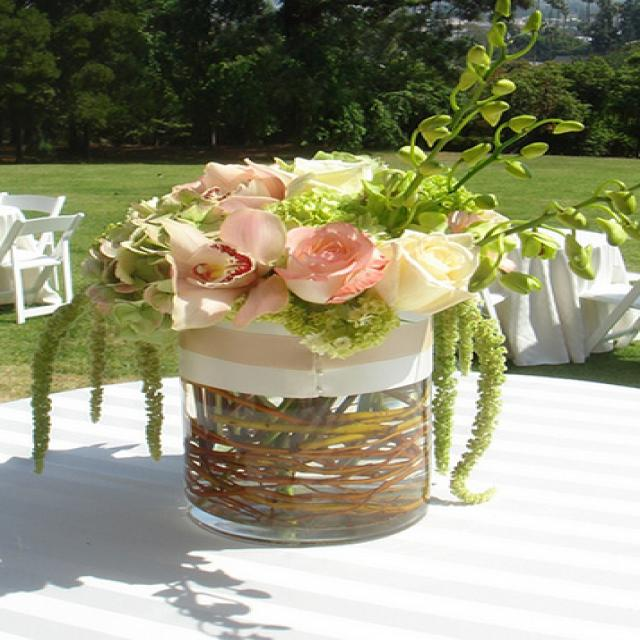chair: (2, 215, 87, 327), (581, 281, 639, 358), (0, 192, 68, 219)
dining table: (0, 370, 640, 631), (503, 226, 609, 250)
